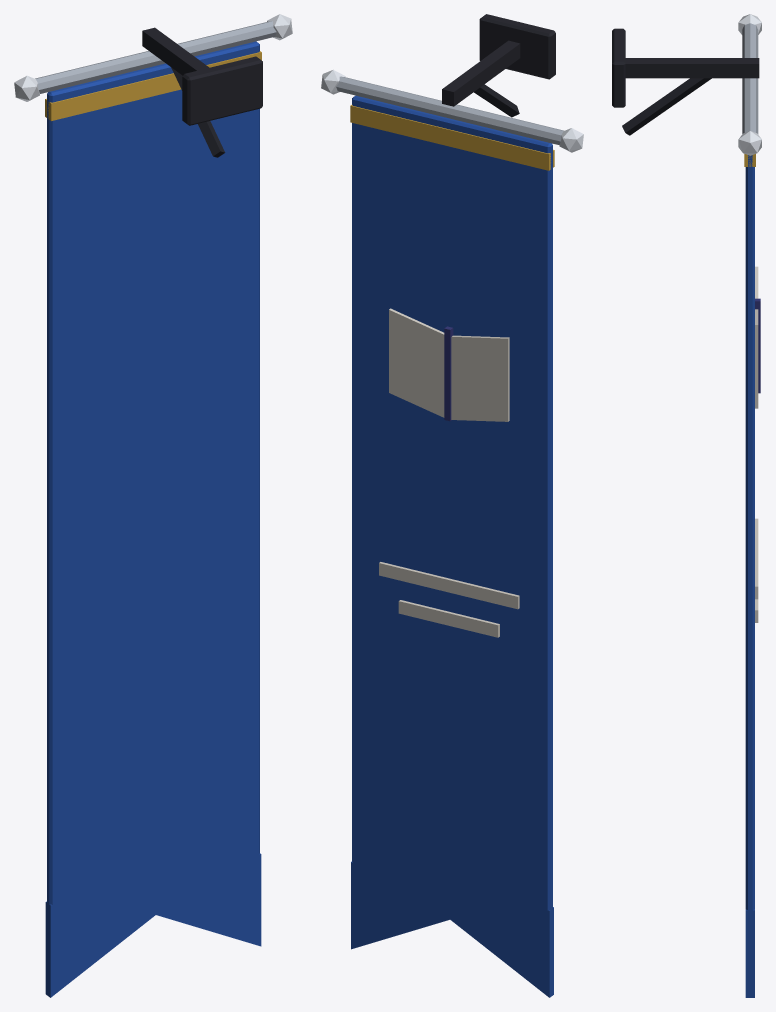
Rendered from lib_banner.glb.
3 renders of one model, left to right at view 1: azimuth 30°, elevation 25°; view 2: azimuth 150°, elevation 25°; view 3: azimuth 270°, elevation 25°, orthographic. The views are drawn at different scales.
Parts seen in each view (by area): view 1: banner; view 2: banner; view 3: banner.
Part boxes in pixels (x1=…): banner: x1=14, y1=14, x2=292, y2=997; banner: x1=321, y1=14, x2=583, y2=997; banner: x1=612, y1=14, x2=761, y2=997.
Size of the model in its own units: 1.31 by 4.33 by 0.651.
